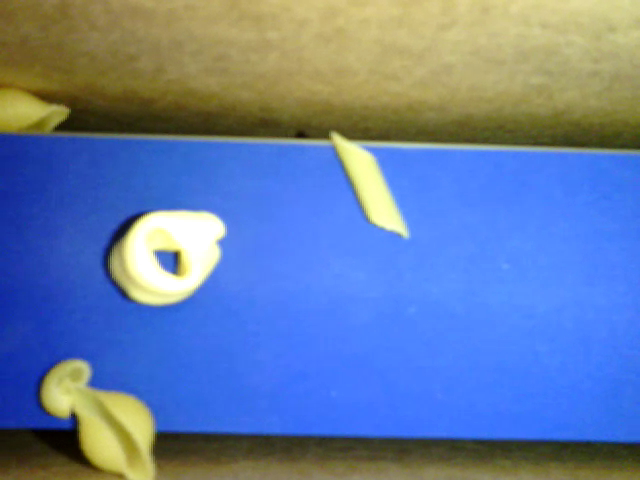penne: (322, 125, 411, 241)
shell: (69, 376, 163, 479), (2, 80, 75, 144)
tortellini: (96, 201, 230, 311)
